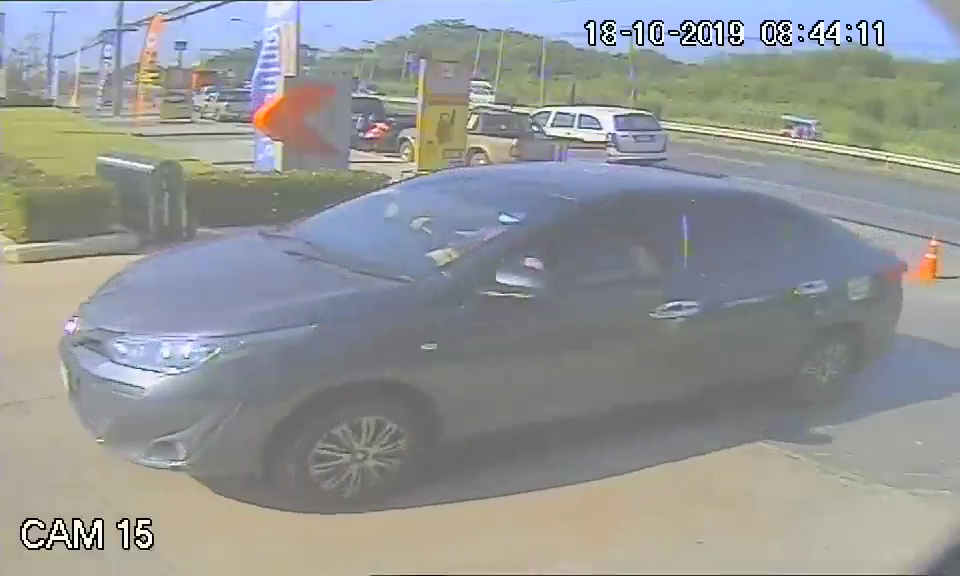sedan: (59, 168, 908, 503)
